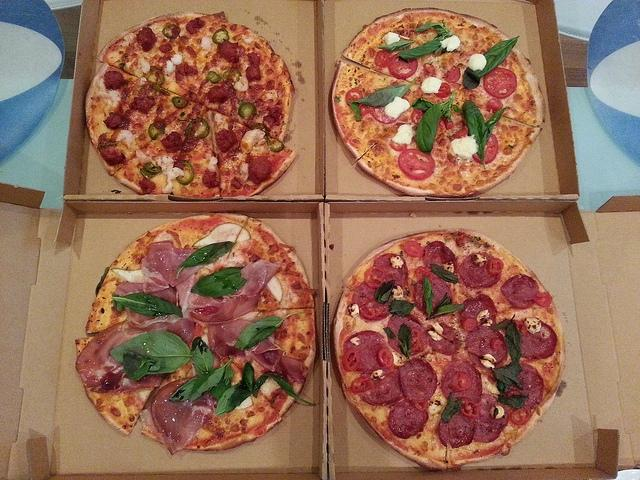tomato: (466, 326, 508, 366), (398, 149, 436, 180), (483, 68, 518, 98), (472, 134, 498, 166), (388, 53, 418, 79), (204, 80, 236, 104), (217, 40, 240, 63), (250, 156, 271, 181), (456, 397, 479, 419), (448, 372, 472, 392), (342, 347, 360, 372), (130, 97, 156, 114), (350, 377, 374, 394), (104, 71, 125, 89), (404, 241, 425, 258), (532, 291, 552, 308), (452, 118, 469, 138), (378, 347, 394, 368), (374, 50, 392, 68), (442, 66, 460, 84), (486, 258, 504, 276), (346, 89, 362, 107), (434, 83, 452, 98), (411, 108, 426, 126), (350, 87, 372, 99), (460, 318, 478, 331), (390, 139, 407, 151), (424, 62, 436, 77), (442, 118, 454, 131)
